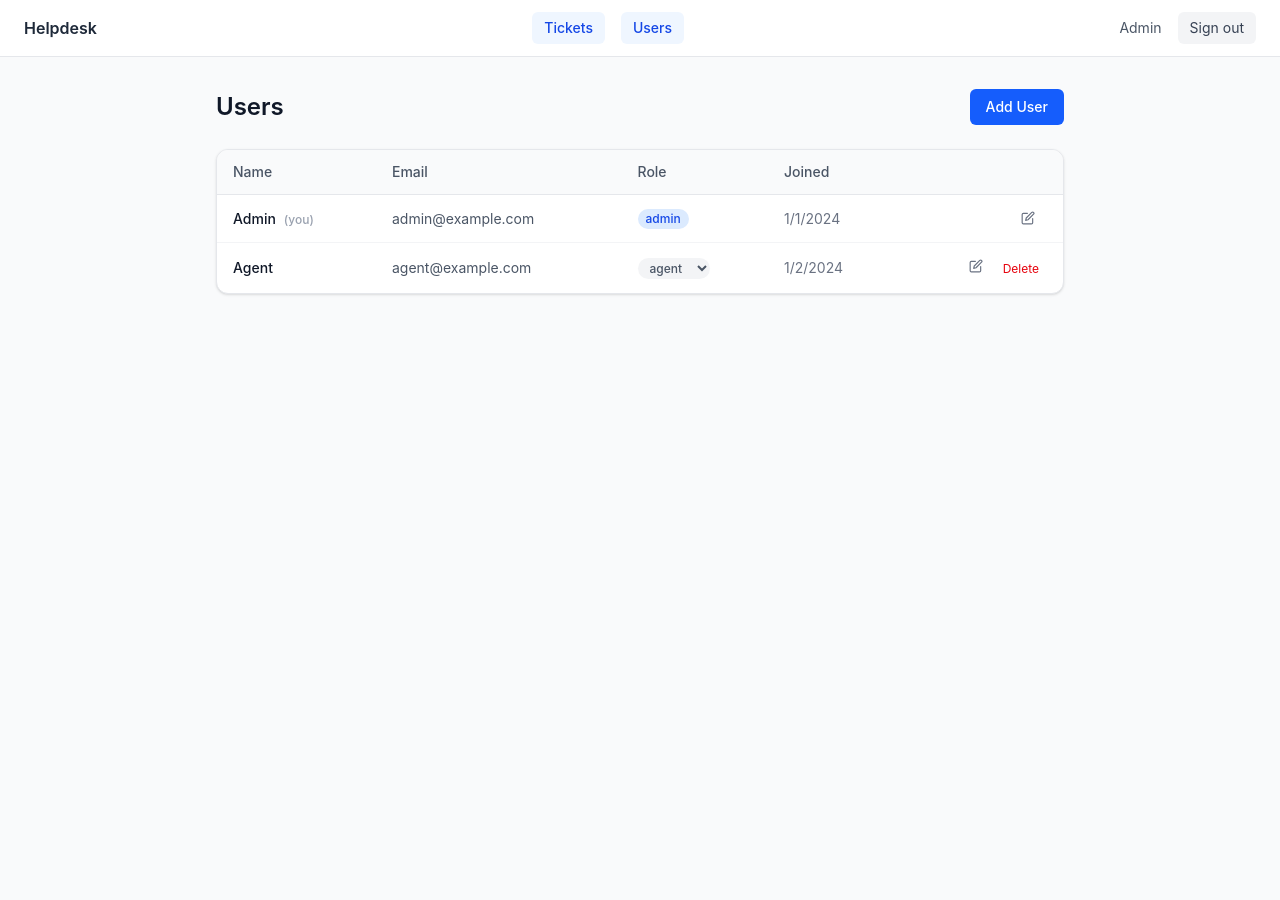
Test case: create user validation › shows Name is required when name is empty
Expected: the text "admin@example.com" is shown, [376,194,622,242]
What coordinates should you click on to do the following:
click the button "Add User"
I would click on:
 (1017, 107)
Its box is [970,89,1064,125].
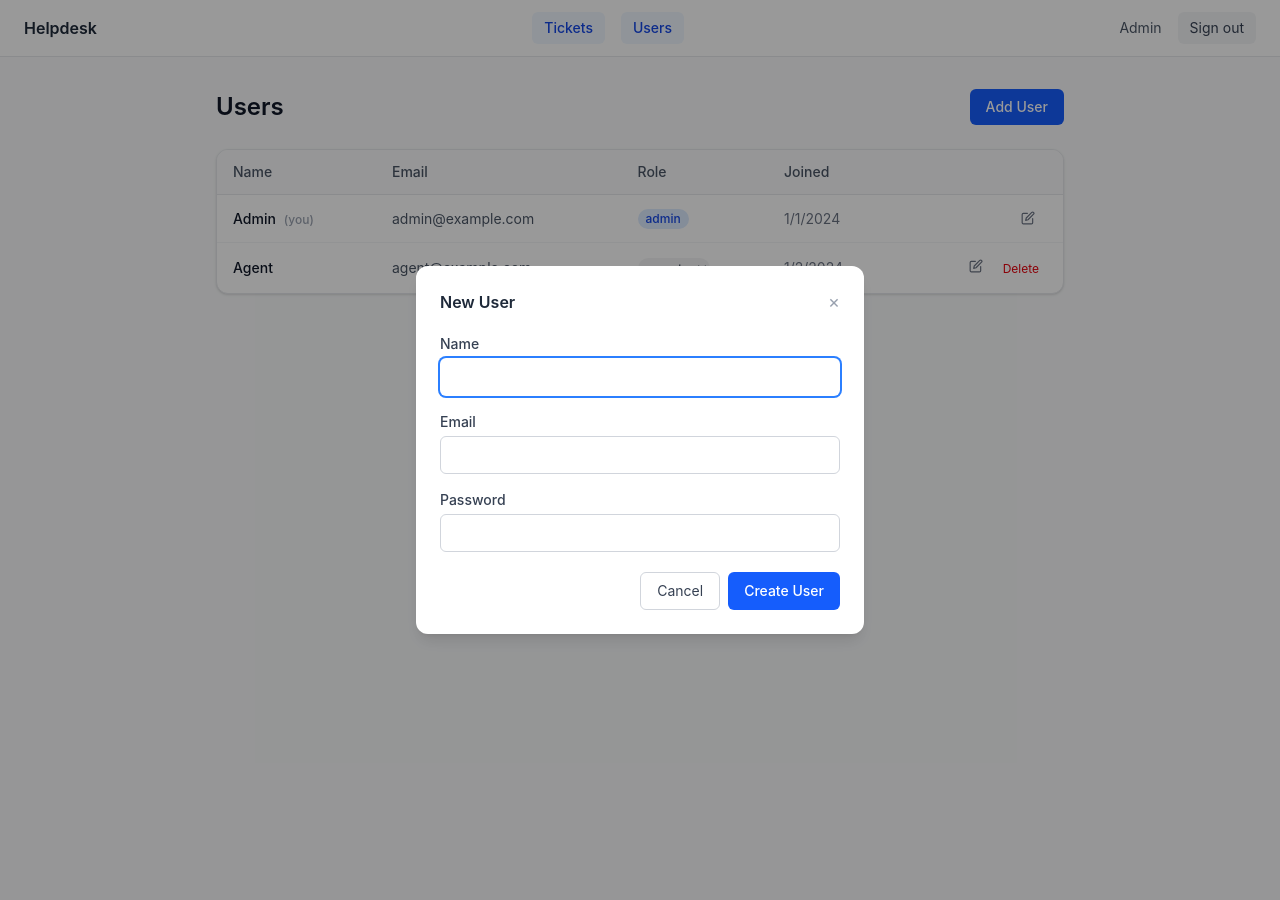
What coordinates should you click on to do the following:
click the button "Create User"
I would click on:
 (784, 591)
Its box is [728,572,840,610].
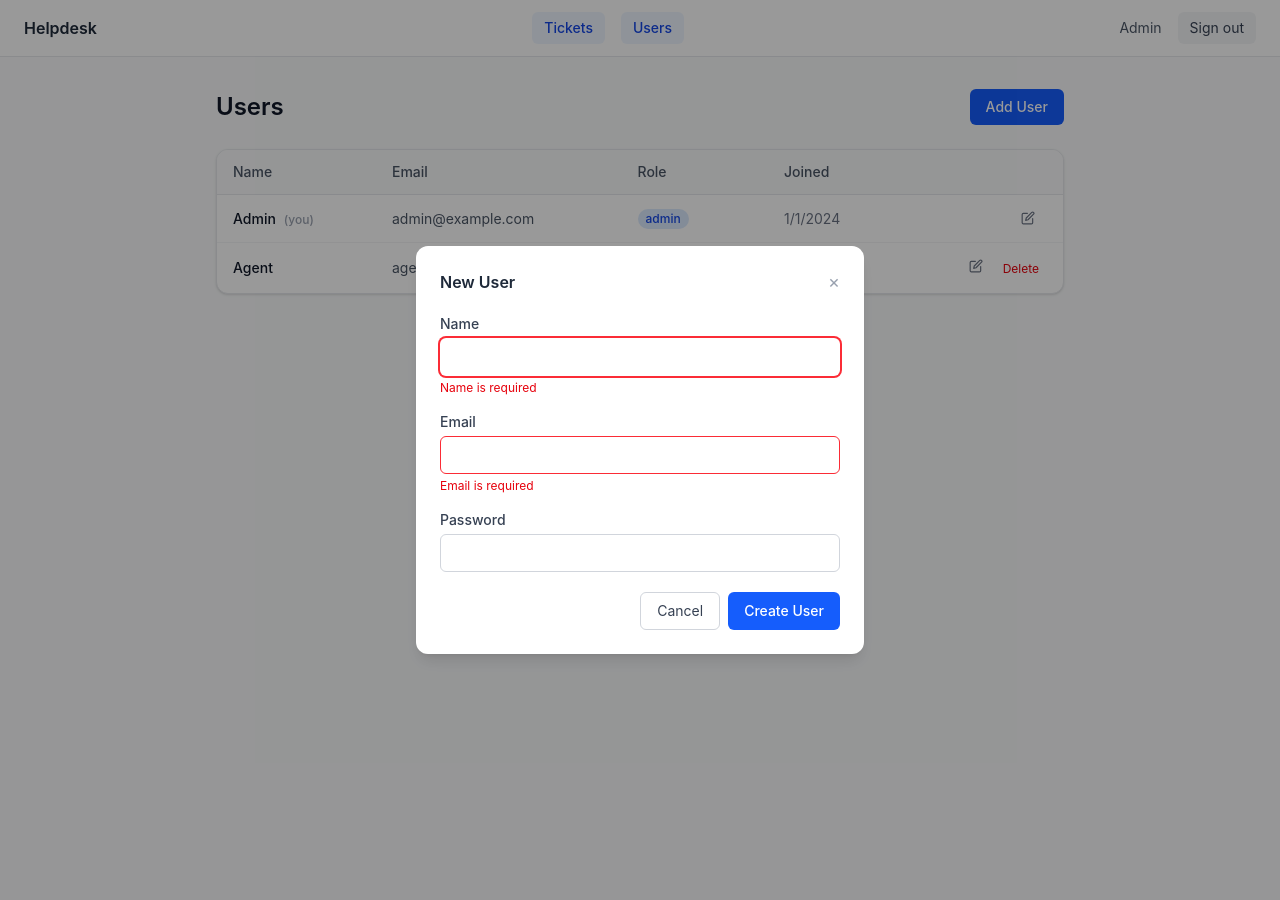
Expected: the text "Name is required" is shown, [440,380,537,395]
